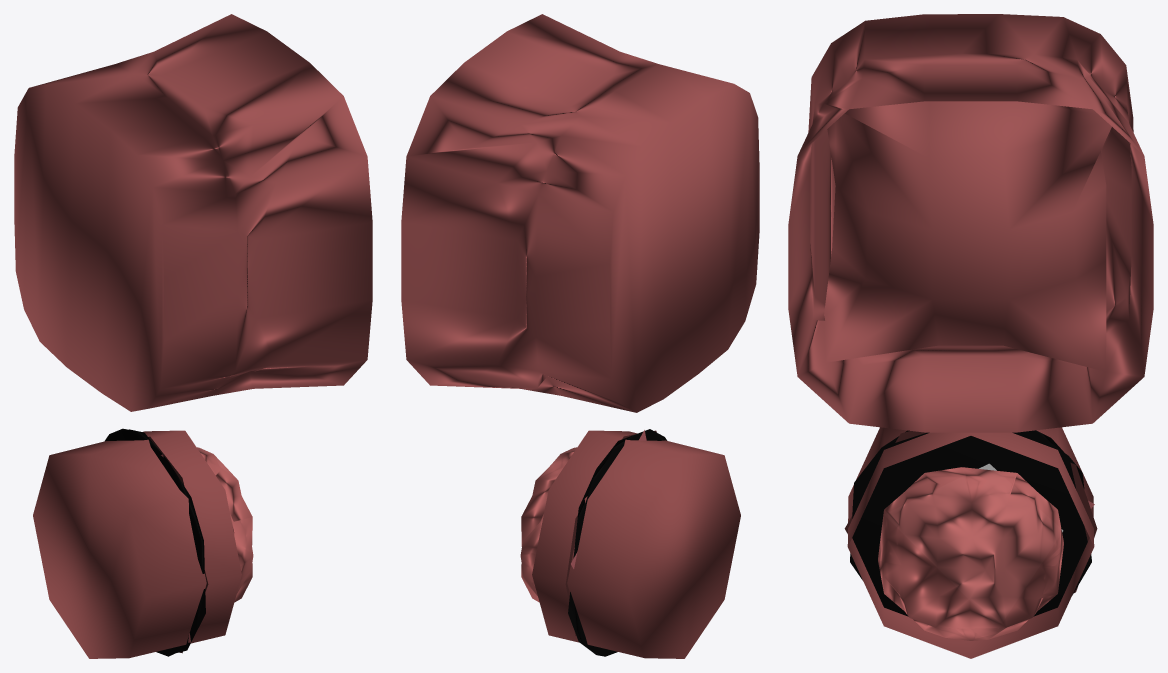
Rendered from fire_alarm.glb.
3 views of the same model, side by side, from view 1: azimuth 30°, elevation 25°; view 2: azimuth 150°, elevation 25°; view 3: azimuth 270°, elevation 25° (orthographic). The views are drawn at different scales.
Parts seen in each view (by area): view 1: fire_alarm; view 2: fire_alarm; view 3: fire_alarm.
Boxes of the visible parts, x1,y1,x2,y2 form: fire_alarm: (14,14,372,658); fire_alarm: (401,14,759,658); fire_alarm: (788,14,1153,658).
Bounding box in the file's own units: 0.0809 × 0.2188 × 0.1177.
